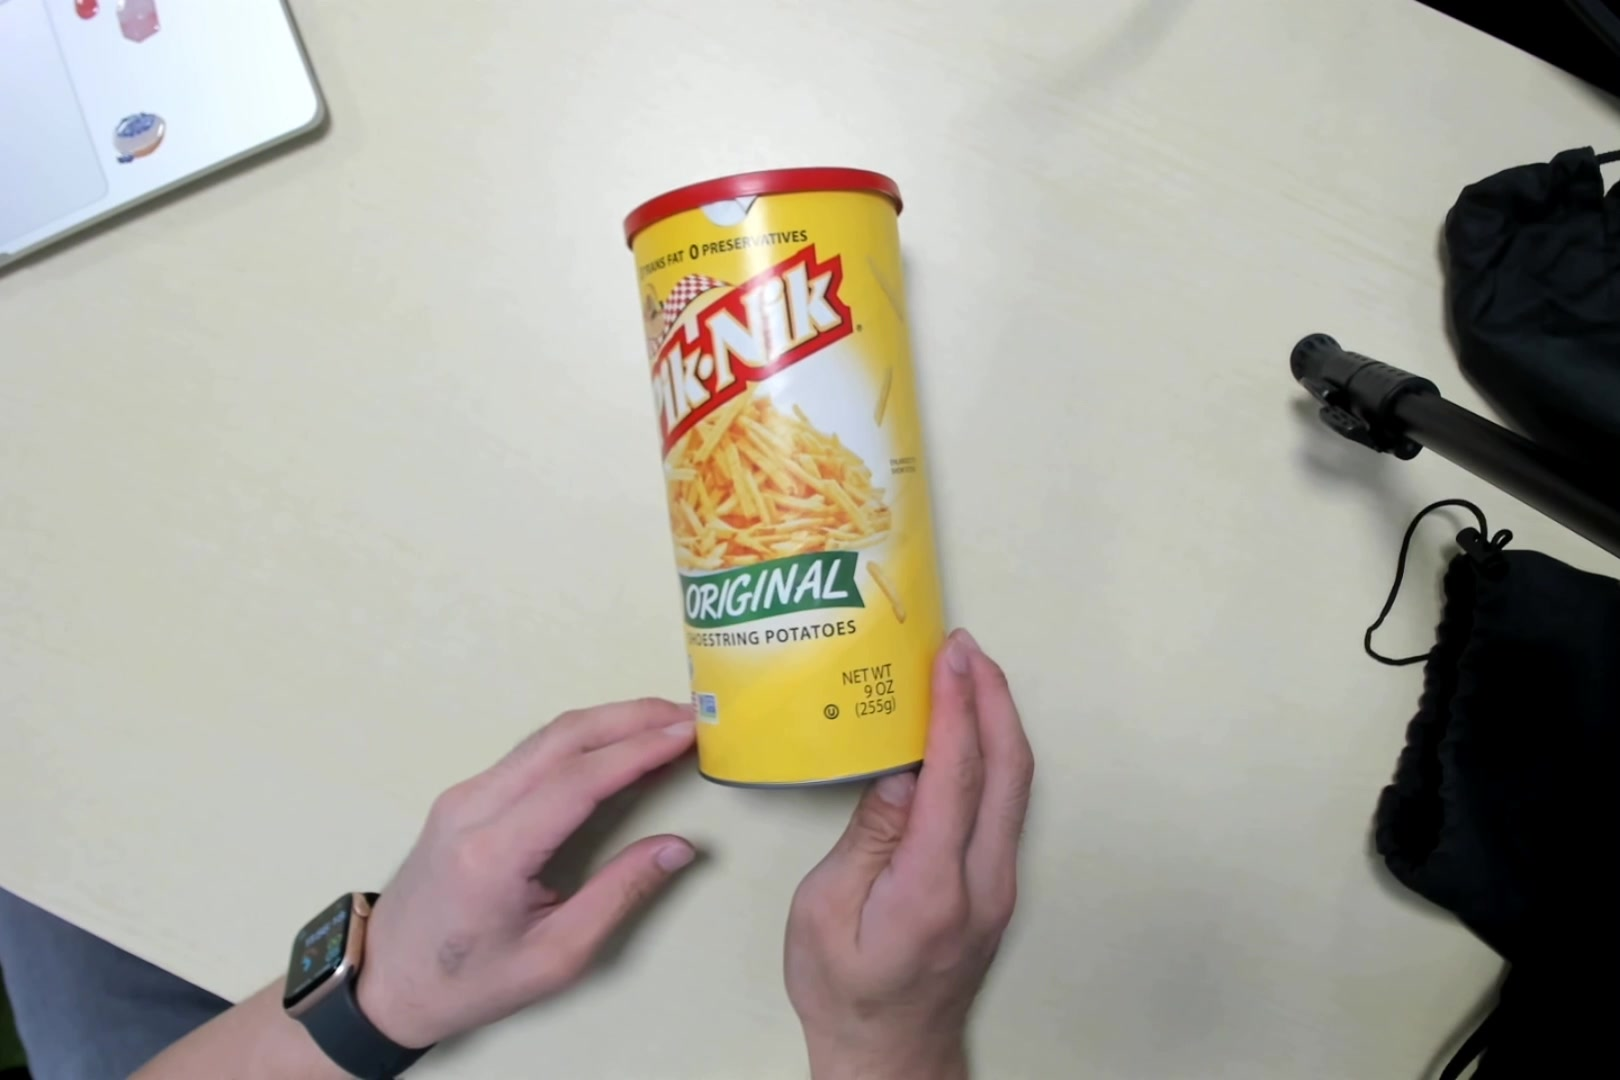PotatoChipsKeropok_200-299g_NonHalal_NonHealthy: (626, 170, 950, 783)
